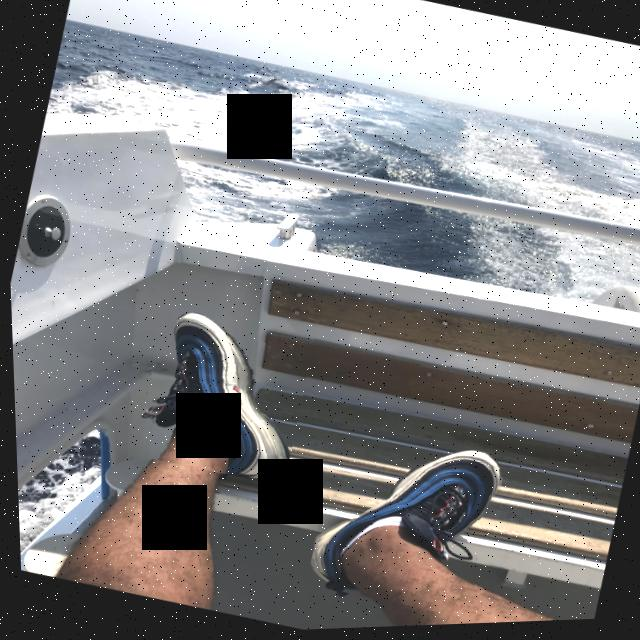shoe: (297, 419, 507, 627), (130, 303, 316, 492)
